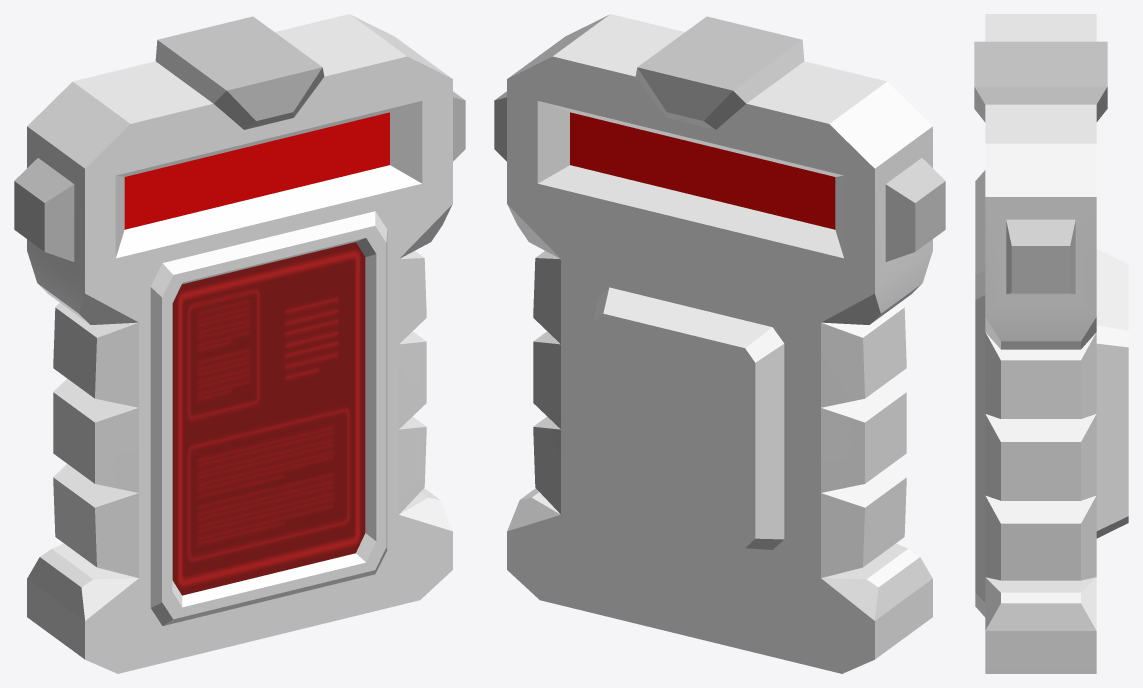
File: HandHeldMedicalScanner_01.fbx
3 renders of one model, left to right at view 1: azimuth 30°, elevation 25°; view 2: azimuth 150°, elevation 25°; view 3: azimuth 270°, elevation 25°, orthographic. The views are drawn at different scales.
Visible parts, largest first — view 1: HandHeldMedicalScanner_01; view 2: HandHeldMedicalScanner_01; view 3: HandHeldMedicalScanner_01.
Part boxes in pixels (x1,y1,x2,y2): HandHeldMedicalScanner_01: (14, 14, 465, 673); HandHeldMedicalScanner_01: (494, 14, 945, 673); HandHeldMedicalScanner_01: (974, 14, 1128, 673).
Size of the model in its own units: 13.24 by 16.91 by 4.39.
